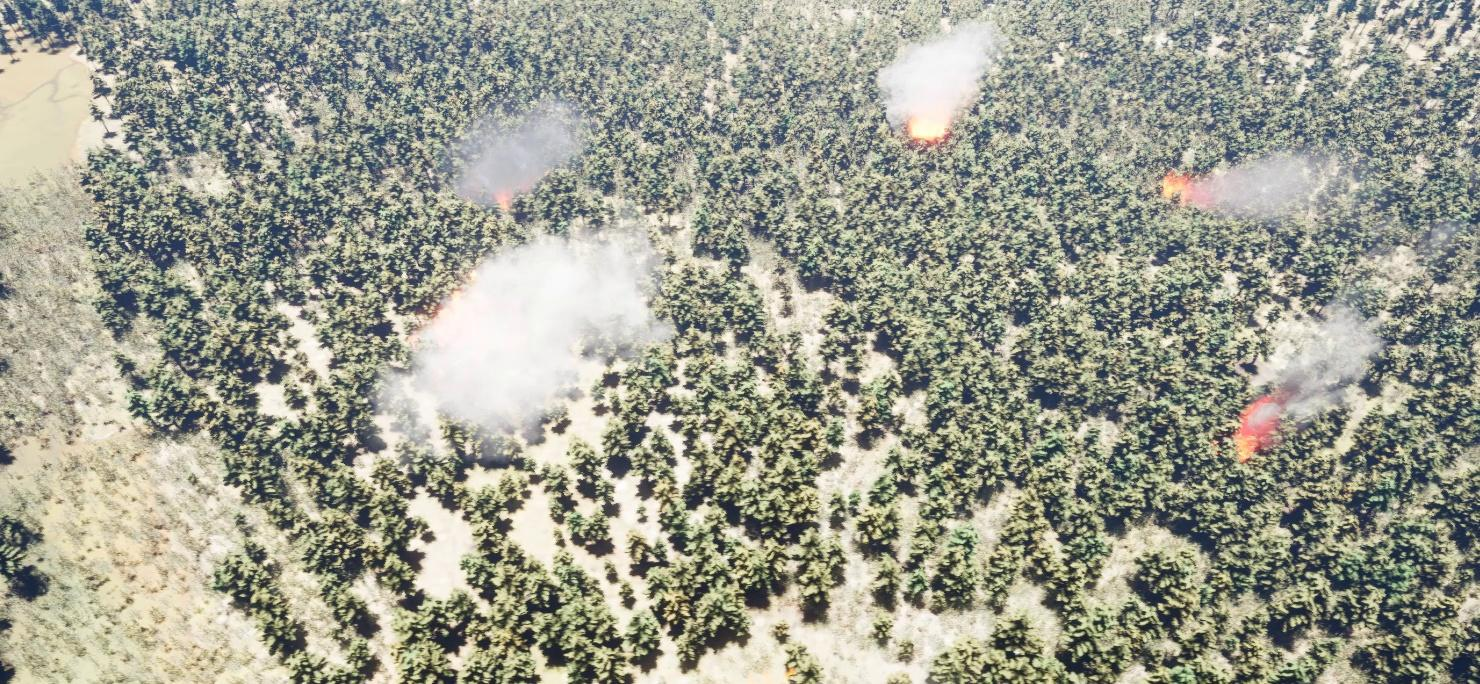fire: (1240, 399, 1283, 468), (1163, 163, 1209, 209), (904, 111, 960, 142)
smoke: (376, 217, 676, 478), (878, 6, 1014, 142), (1253, 304, 1386, 440), (455, 96, 586, 214), (1189, 155, 1376, 222)
